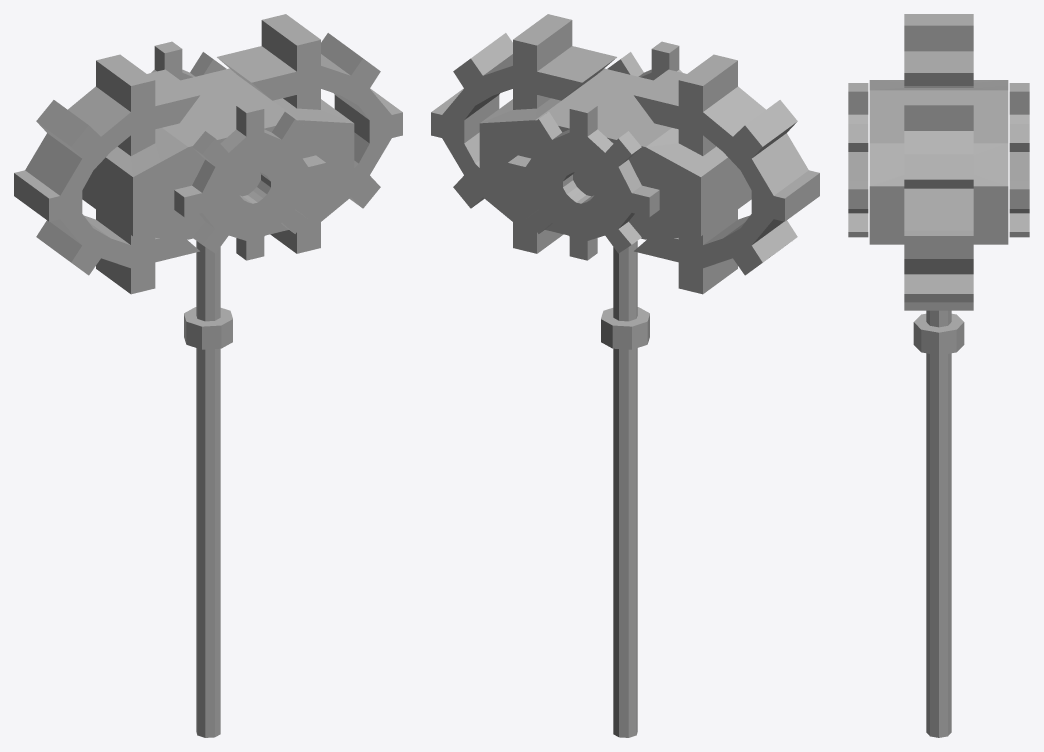
Rendered from weapon.obj.
3 renders of one model, left to right at view 1: azimuth 30°, elevation 25°; view 2: azimuth 150°, elevation 25°; view 3: azimuth 270°, elevation 25°, orthographic.
Parts seen in each view (by area): view 1: gear_立方体.005; view 2: gear_立方体.005; view 3: gear_立方体.005.
Part boxes in pixels (<box>): gear_立方体.005: <box>14,14,402,737</box>; gear_立方体.005: <box>431,14,819,737</box>; gear_立方体.005: <box>848,14,1029,737</box>.
Size of the model in its own units: 3.2 by 5.9 by 1.44.
Materials: 1 (1 with a texture image).
